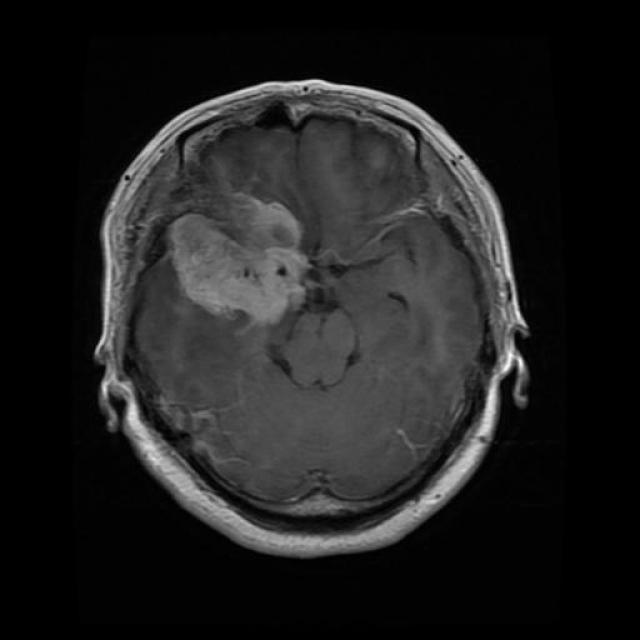Meningioma: (161, 175, 319, 329)
